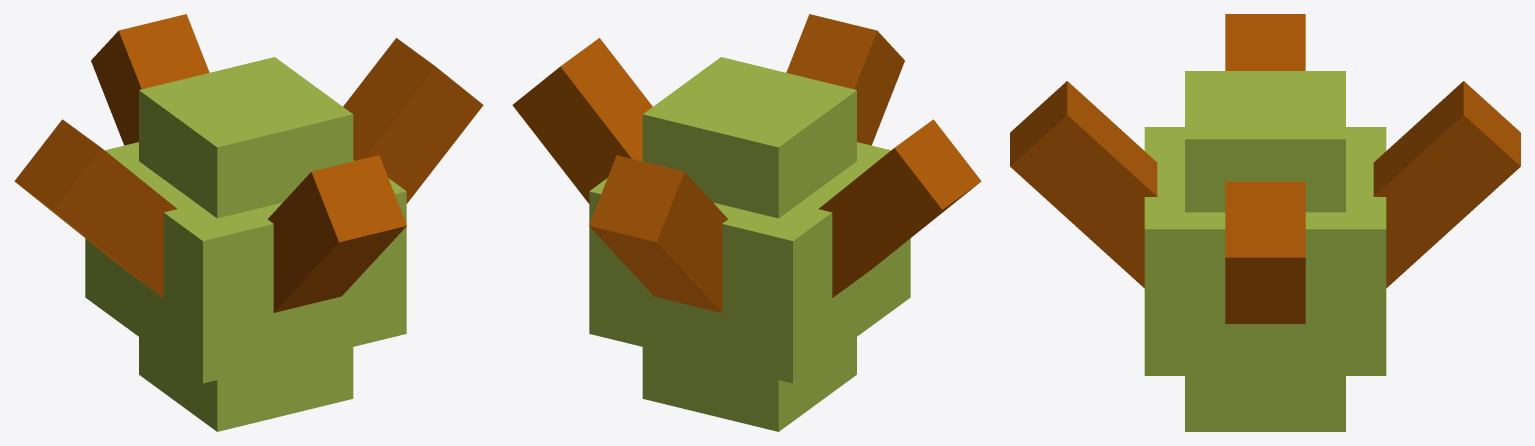
File: egg_forest_giganoto_saurus.obj
The picture shows the model from 3 angles, left to right: view 1: azimuth 30°, elevation 25°; view 2: azimuth 150°, elevation 25°; view 3: azimuth 270°, elevation 25°; orthographic projection. The views are drawn at different scales.
Visible parts, largest first — view 1: egg_forest_giganoto_saurus; view 2: egg_forest_giganoto_saurus; view 3: egg_forest_giganoto_saurus.
Boxes of the visible parts, <box> form: egg_forest_giganoto_saurus: <box>14,14,483,431</box>; egg_forest_giganoto_saurus: <box>512,14,981,431</box>; egg_forest_giganoto_saurus: <box>1010,14,1520,431</box>.
Bounding box in the file's own units: 10.9 × 7.1 × 10.9.
